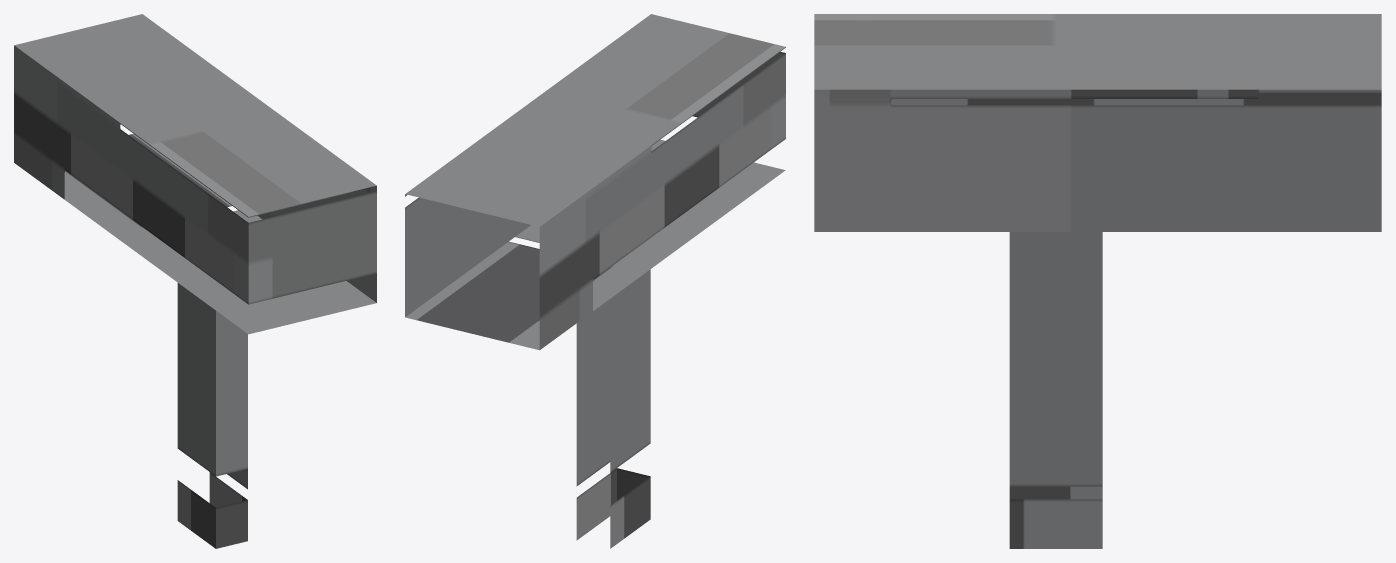
3 renders of one model, left to right at view 1: azimuth 30°, elevation 25°; view 2: azimuth 150°, elevation 25°; view 3: azimuth 270°, elevation 25°, orthographic. The views are drawn at different scales.
Size of the model in its own units: 0.364 by 1.09 by 1.15.
